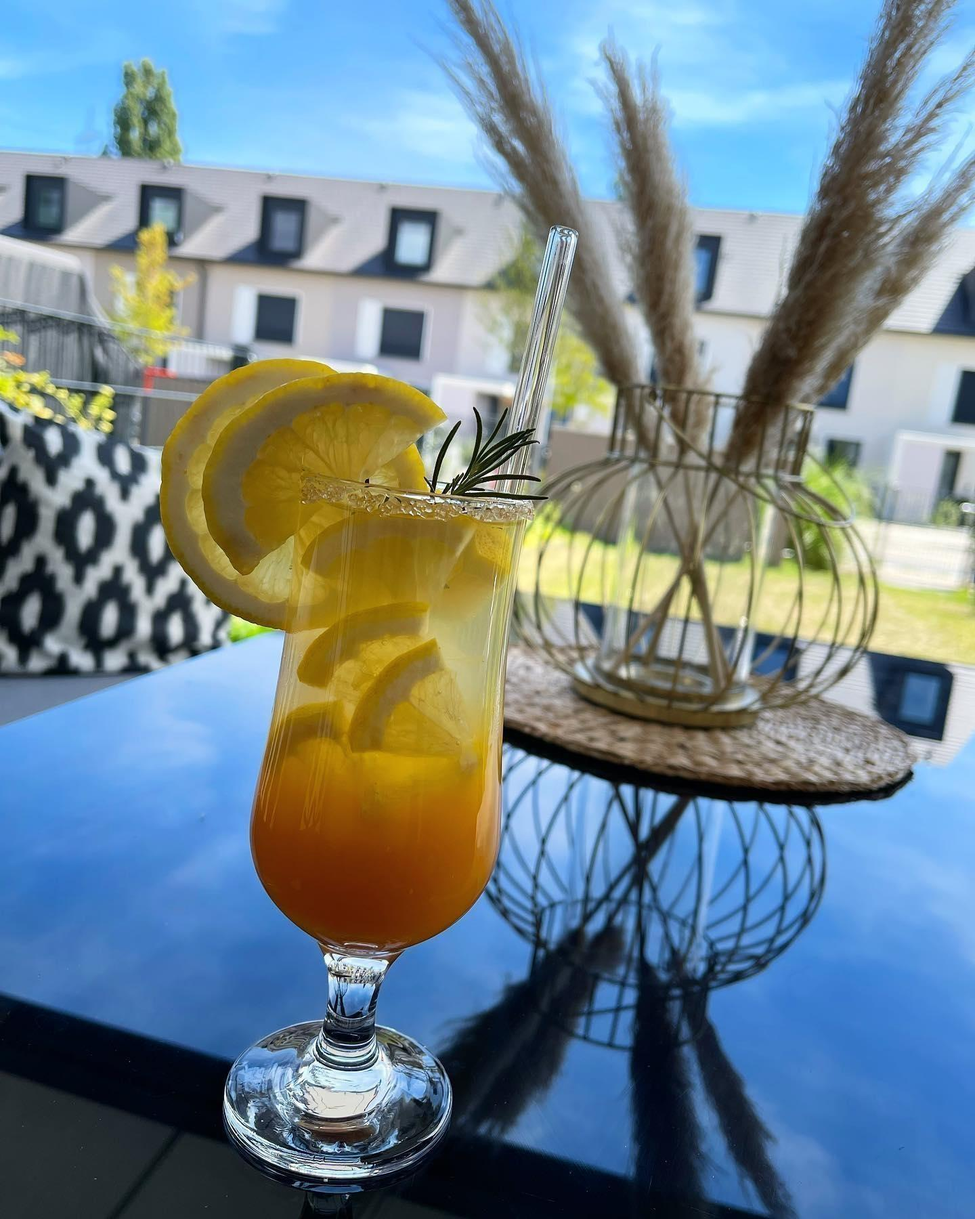glass-wine: (207, 461, 531, 1196)
